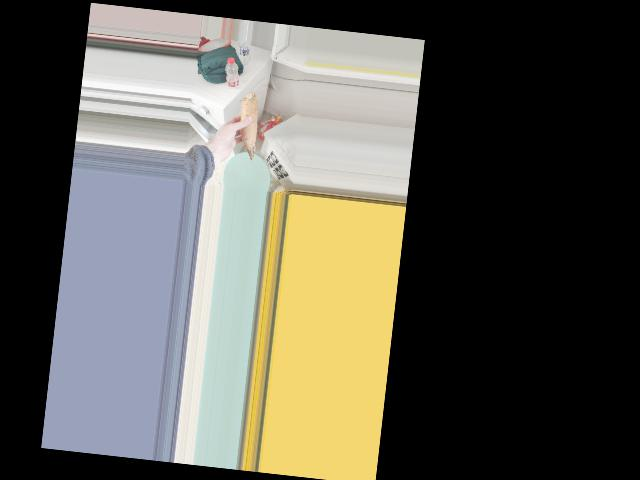sweet_potato: (234, 92, 260, 157)
